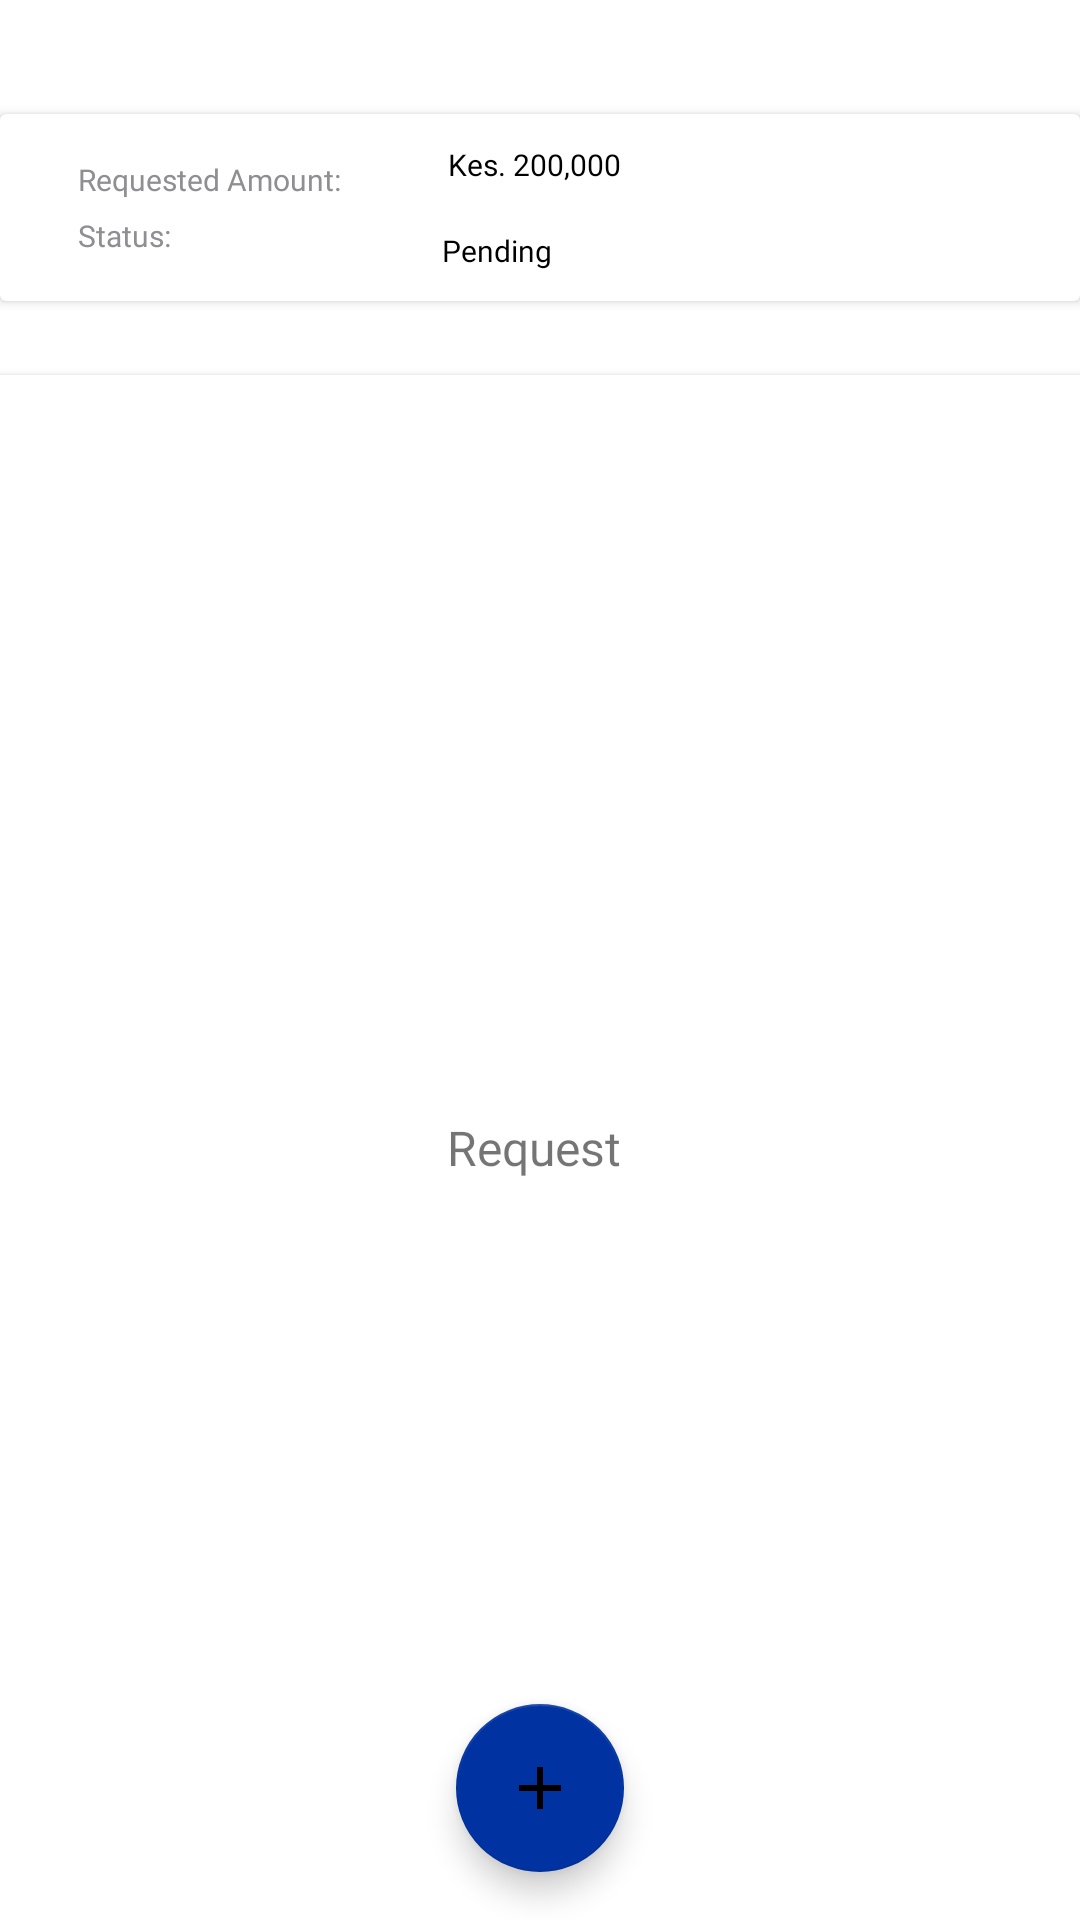

Icons on this 1080*1920 Android screen, each with its box as bbox=[x1, y1, x2, y2]:
add: bbox=[456, 1704, 624, 1872]
